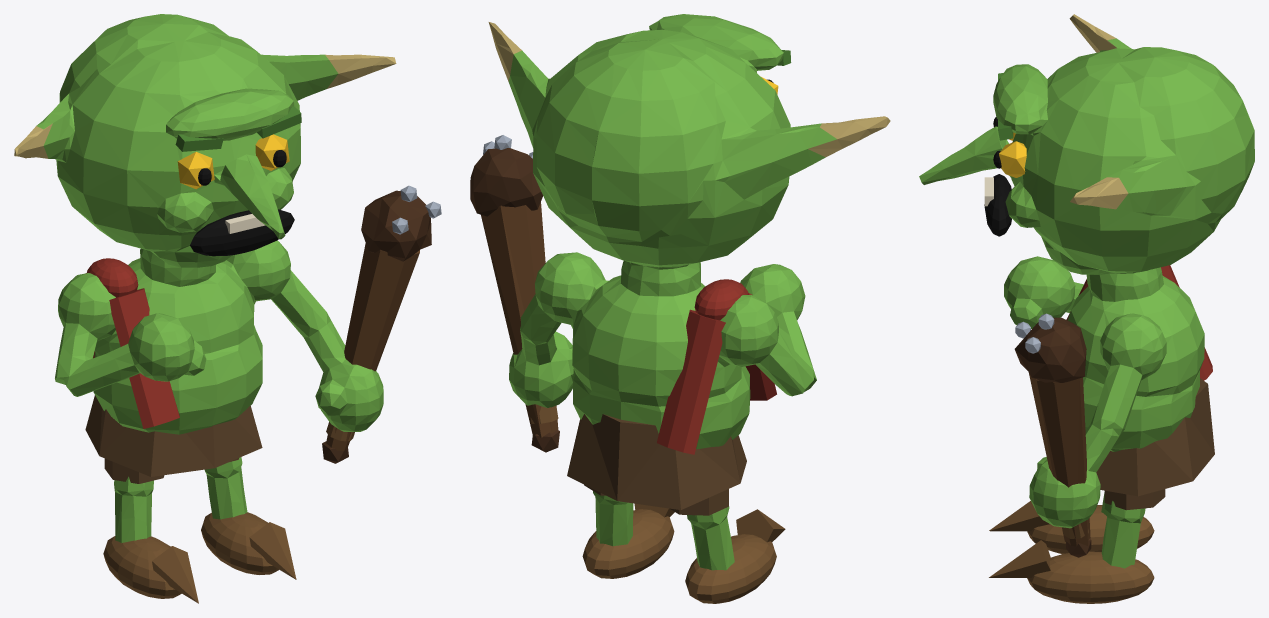
Rendered from Goblin.obj.
The picture shows the model from 3 angles, left to right: view 1: azimuth 30°, elevation 25°; view 2: azimuth 150°, elevation 25°; view 3: azimuth 270°, elevation 25°; orthographic projection. The views are drawn at different scales.
Visible parts, largest first — view 1: Goblin; view 2: Goblin; view 3: Goblin.
Part boxes in pixels (box(x1,y1,x2,y2)): Goblin: box(14, 14, 441, 603); Goblin: box(470, 14, 890, 603); Goblin: box(919, 14, 1254, 603).
Size of the model in its own units: 3.78 by 4.71 by 2.76.
